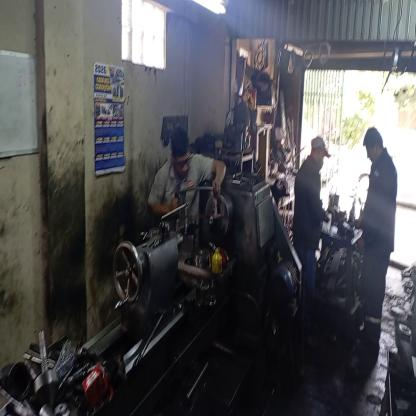lentes: (173, 156, 192, 170)
